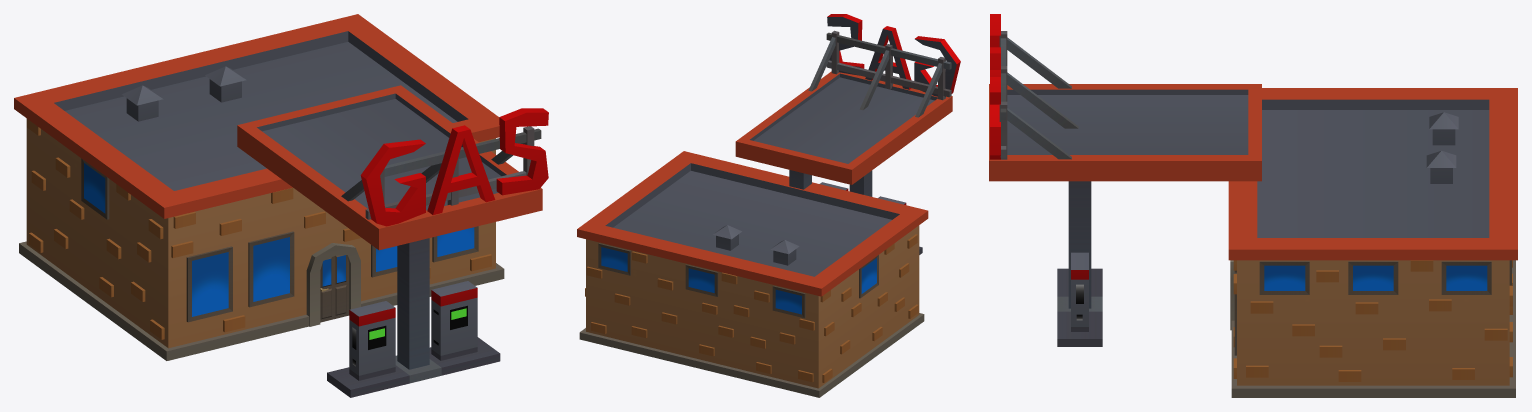
The model's file is SM_Gas_Station.FBX.
The picture shows the model from 3 angles, left to right: view 1: azimuth 30°, elevation 25°; view 2: azimuth 150°, elevation 25°; view 3: azimuth 270°, elevation 25°; orthographic projection. The views are drawn at different scales.
Parts seen in each view (by area): view 1: SM_Gas_Station; view 2: SM_Gas_Station; view 3: SM_Gas_Station.
Boxes of the visible parts, <box> form: SM_Gas_Station: <box>14,14,548,397</box>; SM_Gas_Station: <box>577,14,960,397</box>; SM_Gas_Station: <box>989,14,1517,397</box>.
Size of what is drawn, in the model's own units: 1177 by 1628 by 926.
